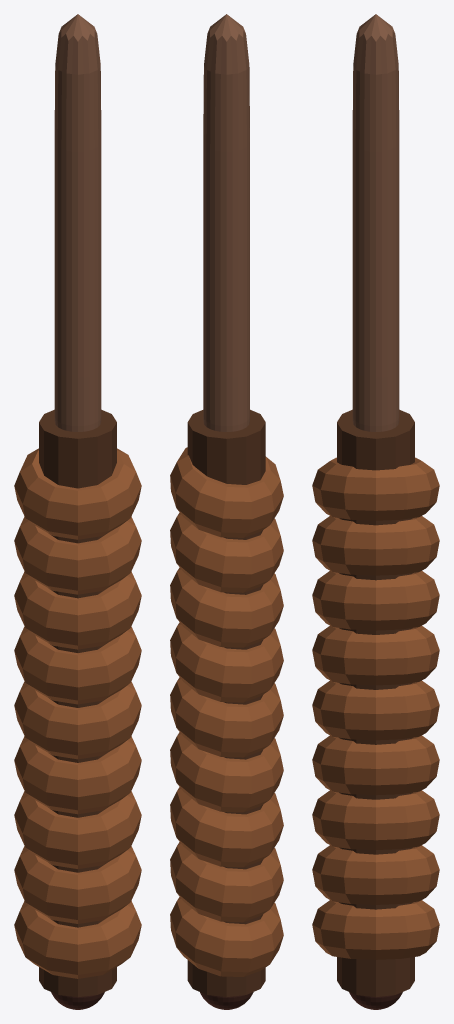
Rendered from Wand 413.glb.
3 renders of one model, left to right at view 1: azimuth 90°, elevation 25°; view 2: azimuth 150°, elevation 25°; view 3: azimuth 270°, elevation 25°, orthographic.
Visible parts, largest first — view 1: GeneratedWand; view 2: GeneratedWand; view 3: GeneratedWand.
Boxes of the visible parts, x1,y1,x2,y2 form: GeneratedWand: (14, 14, 141, 1009); GeneratedWand: (170, 14, 283, 1009); GeneratedWand: (312, 14, 439, 1009).
Bounding box in the file's own units: 0.0497 × 0.4993 × 0.0581.
